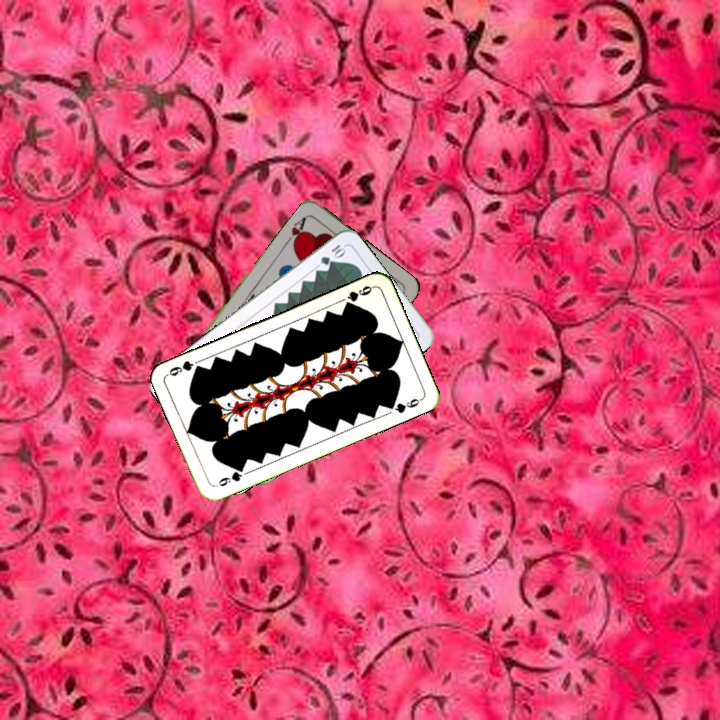G10: (316, 240, 348, 268)
G9: (340, 282, 376, 310), (212, 463, 247, 490)
HA: (281, 213, 309, 249)
